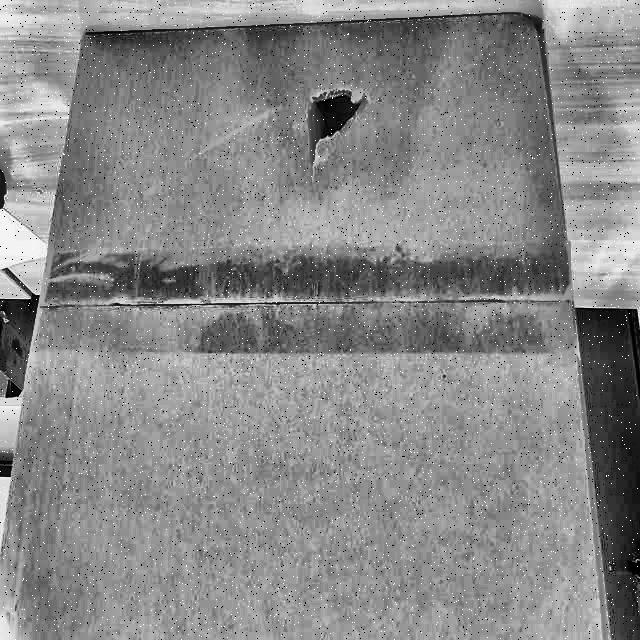box: (1, 19, 612, 640)
hole: (301, 73, 365, 159)
